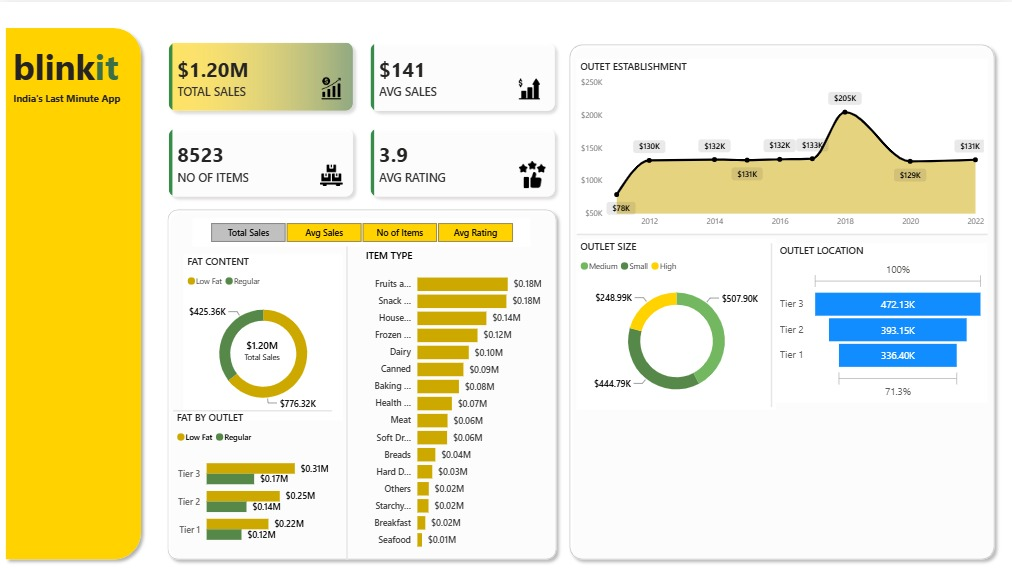

Layout of this report page (visuals, bound fields, positions):
{"tool":"powerbi","page":{"name":"Blinkit Dashboard","canvas":[1400,800],"ordinal":0},"visuals":[{"type":"shape","box":[0,26.9,204.6,750.3],"z":0},{"type":"textbox","box":[14.5,49.6,177.8,88.9],"z":1000},{"type":"textbox","box":[14.5,117.8,175.7,41.3],"z":2000},{"type":"cardVisual","fields":{"Data":["BlinkIT Grocery Data.Total Sales","BlinkIT Grocery Data.Avg Sales","BlinkIT Grocery Data.No of Items","BlinkIT Grocery Data.Avg Rating"]},"box":[204.6,26.9,591.1,270.8],"z":3000},{"type":"image","box":[442.3,99.2,31,39.3],"z":4000},{"type":"image","box":[715.2,99.2,31,41.3],"z":5000},{"type":"image","box":[442.3,219.1,31,39.3],"z":6000},{"type":"image","box":[715.2,219.1,39.3,37.2],"z":7000},{"type":"shape","box":[223.2,277,553.9,500.2],"z":8000},{"type":"donutChart","title":"FAT CONTENT","fields":{"Y":["BlinkIT Grocery Data.Total Sales"],"Category":["BlinkIT Grocery Data.Item Fat Content"]},"box":[254.2,347.2,219.1,229.4],"z":9000},{"type":"slicer","fields":{"Values":["Metrics.Metrics"]},"box":[266.6,297.6,465.1,39.3],"z":10000},{"type":"cardVisual","fields":{"Data":["BlinkIT Grocery Data.Total Sales"]},"box":[305.9,446.5,113.7,66.1],"z":11000},{"type":"clusteredBarChart","title":"FAT BY OUTLET","fields":{"Y":["BlinkIT Grocery Data.Total Sales"],"Category":["BlinkIT Grocery Data.Outlet Location Type"],"Series":["BlinkIT Grocery Data.Item Fat Content"]},"box":[239.8,562.2,219.1,200.5],"z":12000},{"type":"shape","box":[239.8,551.9,219.1,22.7],"z":13000},{"type":"shape","box":[473.3,336.9,12.4,432],"z":14000},{"type":"barChart","title":"ITEM TYPE","fields":{"Y":["BlinkIT Grocery Data.Total Sales"],"Category":["BlinkIT Grocery Data.Item Type"]},"box":[500.2,339,252.2,425.8],"z":15000},{"type":"shape","box":[777.2,49.6,603.5,727.6],"z":16000},{"type":"lineChart","title":"OUTET ESTABLISHMENT","fields":{"Category":["BlinkIT Grocery Data.Outlet Establishment Year"],"Y":["BlinkIT Grocery Data.Total Sales"]},"box":[795.8,78.5,566.3,239.8],"z":17000},{"type":"donutChart","title":"OUTLET SIZE","fields":{"Y":["BlinkIT Grocery Data.Total Sales"],"Category":["BlinkIT Grocery Data.Outlet Size"]},"box":[795.8,326.6,274.9,235.6],"z":18000},{"type":"shape","box":[1058.3,339,12.4,225.3],"z":19000},{"type":"funnel","title":"OUTLET LOCATION","fields":{"Category":["BlinkIT Grocery Data.Outlet Location Type"],"Y":["Sum(BlinkIT Grocery Data.Sales)"]},"box":[1070.7,332.8,291.4,219.1],"z":20000},{"type":"shape","box":[795.8,308,566.3,24.8],"z":21000},{"type":"shape","box":[789.6,562.2,566.3,24.8],"z":22000},{"type":"pivotTable","title":"OUTLET TYPE ","fields":{"Rows":["BlinkIT Grocery Data.Outlet Type"],"Values":["BlinkIT Grocery Data.Total Sales","BlinkIT Grocery Data.No of Items","BlinkIT Grocery Data.Avg Sales","BlinkIT Grocery Data.Avg Rating","Avg(BlinkIT Grocery Data.Item Visibility)"]},"box":[789.6,591.1,578.7,155],"z":23000},{"type":"slicer","fields":{"Values":["BlinkIT Grocery Data.Outlet Location Type"]},"box":[14.5,262.5,175.7,64.1],"z":23001},{"type":"slicer","fields":{"Values":["BlinkIT Grocery Data.Outlet Size"]},"box":[14.5,349.3,175.7,64.1],"z":23002},{"type":"slicer","fields":{"Values":["BlinkIT Grocery Data.Item Type"]},"box":[16.5,429.9,175.7,64.1],"z":23003},{"type":"textbox","box":[16.5,217,175.7,41.3],"z":23004}]}

Visuals, with their boxes in screenshot pixels (x1, y1, x2, y2), scaled from the page's 1400x800 canvas onto the 1012x582 screenshot:
shape: 0,20,148,565
textbox: 10,36,139,101
textbox: 10,86,137,116
cardVisual - BlinkIT Grocery Data.Total Sales x BlinkIT Grocery Data.Avg Sales: 148,20,575,217
image: 320,72,342,101
image: 517,72,539,102
image: 320,159,342,188
image: 517,159,545,186
shape: 161,202,562,565
"FAT CONTENT" donutChart: 184,253,342,419
slicer - Metrics.Metrics: 193,217,529,245
cardVisual - BlinkIT Grocery Data.Total Sales: 221,325,303,373
"FAT BY OUTLET" clusteredBarChart: 173,409,332,555
shape: 173,402,332,418
shape: 342,245,351,559
"ITEM TYPE" barChart: 362,247,544,556
shape: 562,36,998,565
"OUTET ESTABLISHMENT" lineChart: 575,57,985,232
"OUTLET SIZE" donutChart: 575,238,774,409
shape: 765,247,774,411
"OUTLET LOCATION" funnel: 774,242,985,402
shape: 575,224,985,242
shape: 571,409,980,427
"OUTLET TYPE " pivotTable: 571,430,989,543
slicer - BlinkIT Grocery Data.Outlet Location Type: 10,191,137,238
slicer - BlinkIT Grocery Data.Outlet Size: 10,254,137,301
slicer - BlinkIT Grocery Data.Item Type: 12,313,139,359
textbox: 12,158,139,188
